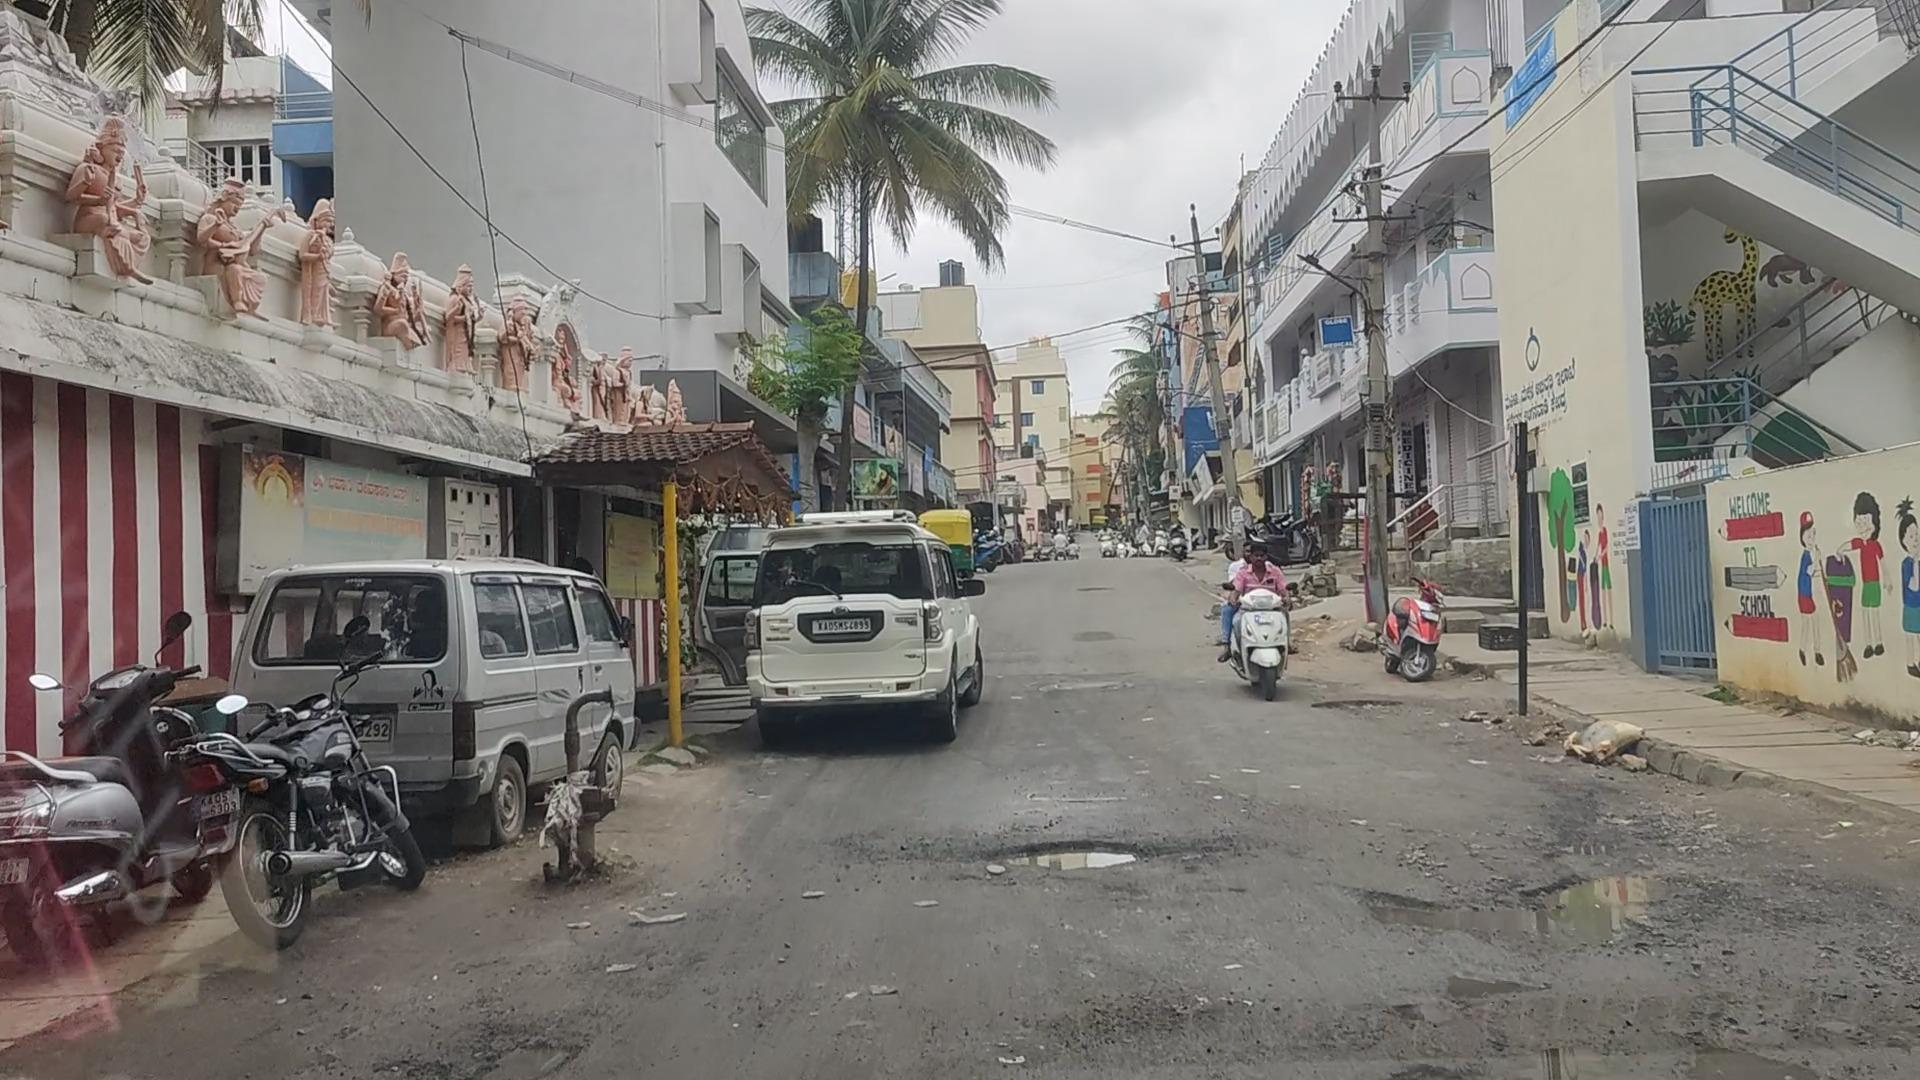LMV: (1225, 541, 1303, 700)
RoadDamages: (1448, 990, 1900, 1080), (1116, 955, 1315, 1072), (1486, 836, 1700, 924), (911, 824, 1220, 882), (378, 1007, 593, 1080)
